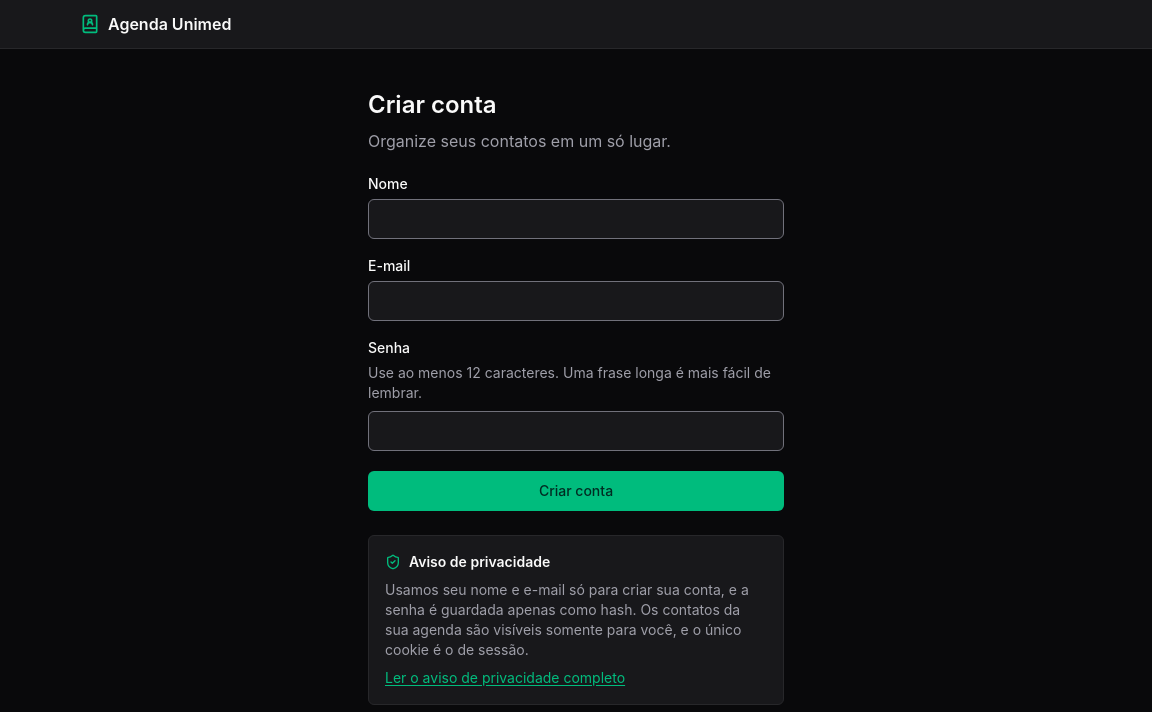
Test: Criar conta (RF01) › leva os erros por campo da API (422) ao campo
This screenshot has width=1152, height=712.
Type "João" into the field labelled "Nome". click: (576, 219)
box: [368,199,784,239]
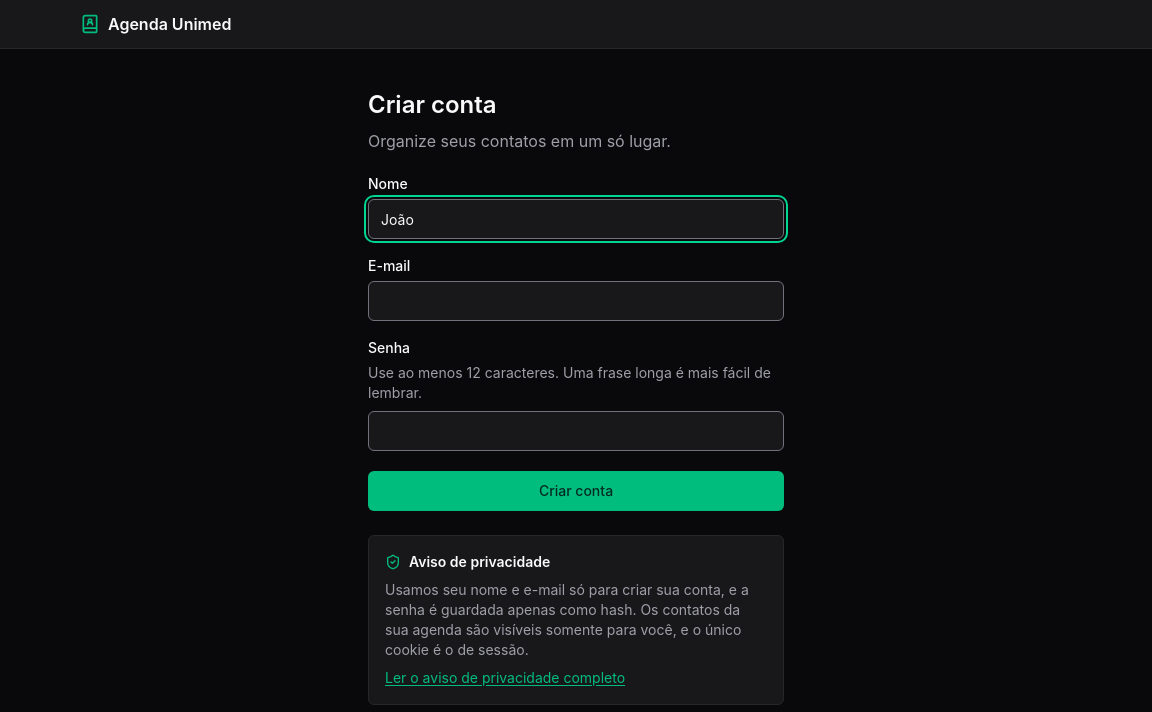
Type "joao@empresa.com" into the field labelled "E-mail". click: (576, 301)
box: [368,281,784,321]
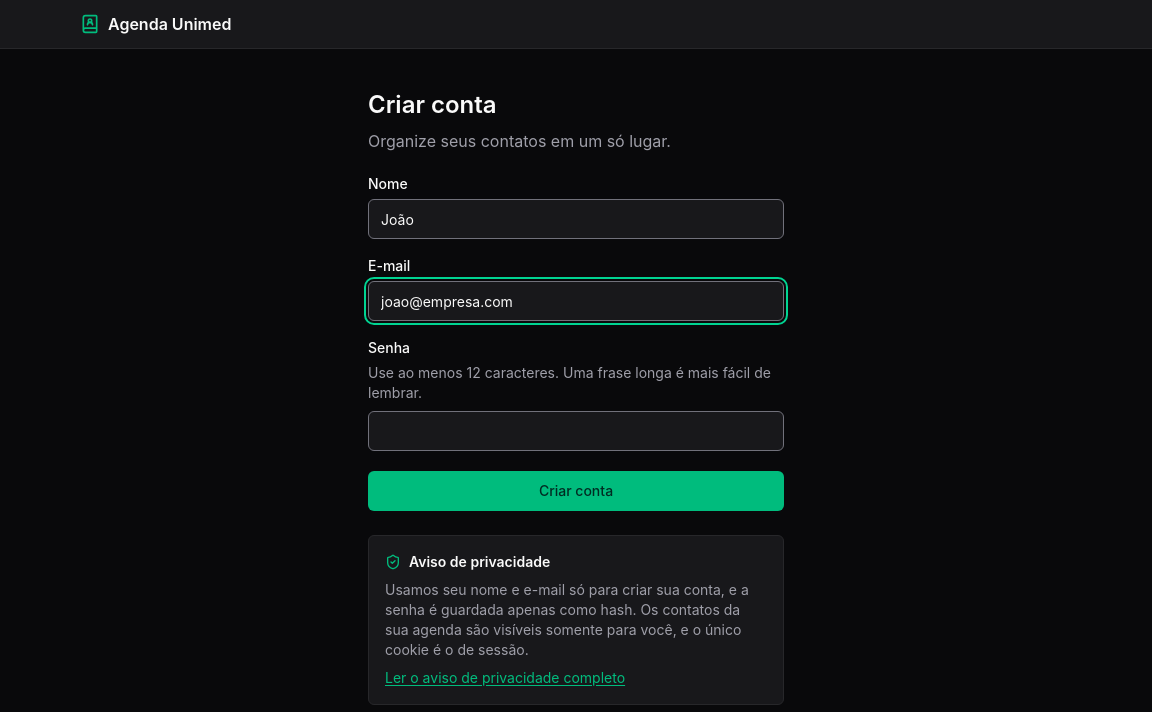
Type "senha-segura-2026" into the password field labelled "Senha". click: (576, 431)
box: [368,411,784,451]
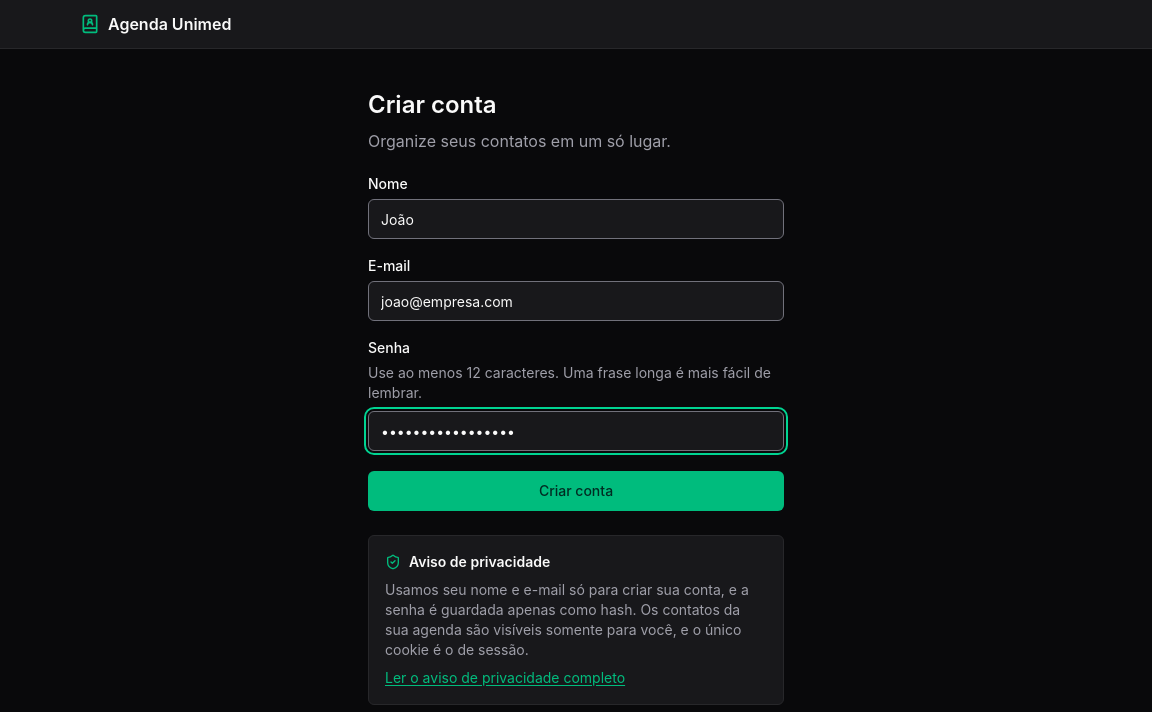
Click the button "Criar conta". click: (576, 491)
box: [368,471,784,511]
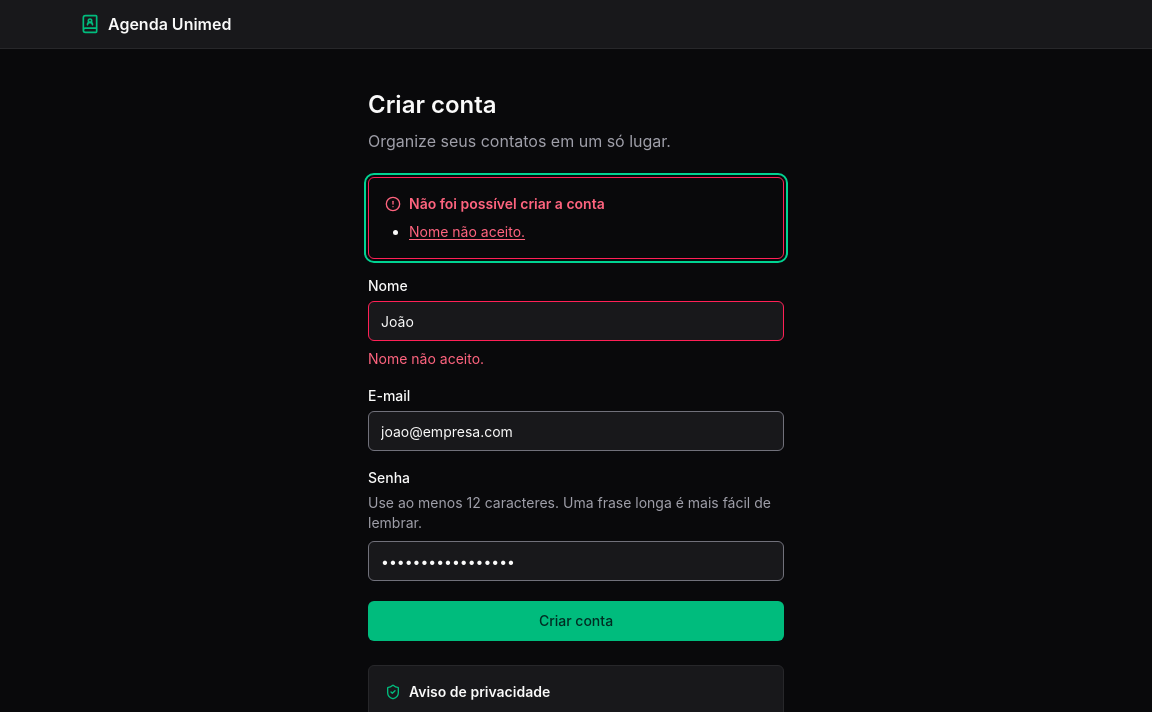
expect the link "Nome não aceito." is shown: met, box [409,223,525,240]
